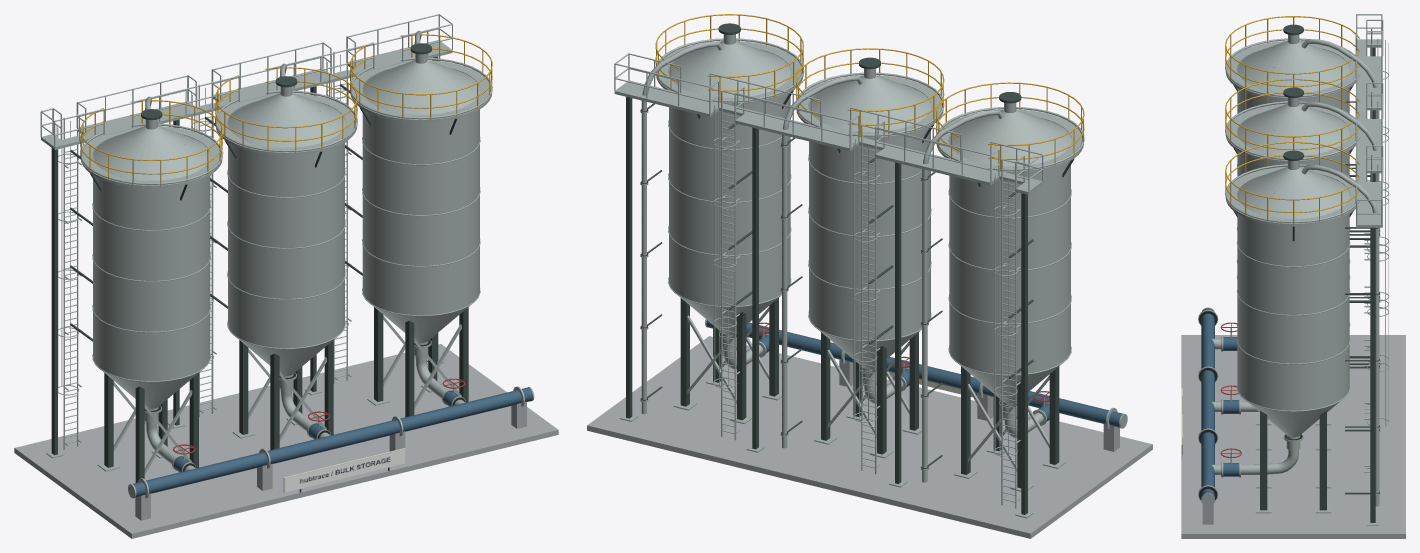
The model's file is silo-farm.glb.
The picture shows the model from 3 angles, left to right: view 1: azimuth 30°, elevation 25°; view 2: azimuth 150°, elevation 25°; view 3: azimuth 270°, elevation 25°; orthographic projection. The views are drawn at different scales.
Parts seen in each view (by area): view 1: storage_vessels_brushed-metal-panels, silo-farm_cast-concrete, storage_vessels_galvanized-steel, storage_vessels_powder-coated-frame, silo-farm_galvanized-steel, silo-farm_utility-blue, storage_vessels_safety-yellow, silo-farm_powder-coated-frame, silo-farm_silo-site-sign-ink; view 2: storage_vessels_brushed-metal-panels, silo-farm_cast-concrete, storage_vessels_galvanized-steel, storage_vessels_powder-coated-frame, silo-farm_galvanized-steel, silo-farm_powder-coated-frame, storage_vessels_safety-yellow, silo-farm_utility-blue; view 3: storage_vessels_brushed-metal-panels, silo-farm_cast-concrete, storage_vessels_galvanized-steel, silo-farm_galvanized-steel, storage_vessels_safety-yellow, storage_vessels_powder-coated-frame, silo-farm_utility-blue, silo-farm_powder-coated-frame, storage_vessels_utility-blue, silo-farm_rubber-gaskets.
Part boxes in pixels (left/top/right/bottom): storage_vessels_brushed-metal-panels: left=93, top=60, right=479, bottom=408; silo-farm_cast-concrete: left=14, top=344, right=558, bottom=538; storage_vessels_galvanized-steel: left=56, top=30, right=492, bottom=474; storage_vessels_powder-coated-frame: left=70, top=43, right=468, bottom=482; silo-farm_galvanized-steel: left=40, top=14, right=534, bottom=498; silo-farm_utility-blue: left=132, top=387, right=532, bottom=497; storage_vessels_safety-yellow: left=80, top=34, right=492, bottom=185; silo-farm_powder-coated-frame: left=51, top=56, right=438, bottom=492; silo-farm_silo-site-sign-ink: left=285, top=449, right=404, bottom=491; storage_vessels_brushed-metal-panels: left=669, top=41, right=1070, bottom=403; silo-farm_cast-concrete: left=587, top=336, right=1152, bottom=538; storage_vessels_galvanized-steel: left=640, top=34, right=1084, bottom=508; storage_vessels_powder-coated-frame: left=647, top=23, right=1074, bottom=488; silo-farm_galvanized-steel: left=614, top=53, right=1127, bottom=518; silo-farm_powder-coated-frame: left=626, top=97, right=1027, bottom=514; storage_vessels_safety-yellow: left=655, top=14, right=1084, bottom=171; silo-farm_utility-blue: left=706, top=320, right=1123, bottom=427; storage_vessels_brushed-metal-panels: left=1237, top=41, right=1349, bottom=437; silo-farm_cast-concrete: left=1181, top=335, right=1405, bottom=538; storage_vessels_galvanized-steel: left=1212, top=28, right=1389, bottom=513; silo-farm_galvanized-steel: left=1198, top=14, right=1383, bottom=525; storage_vessels_safety-yellow: left=1225, top=16, right=1360, bottom=224; storage_vessels_powder-coated-frame: left=1233, top=24, right=1370, bottom=510; silo-farm_utility-blue: left=1201, top=308, right=1214, bottom=497; silo-farm_powder-coated-frame: left=1182, top=47, right=1375, bottom=522; storage_vessels_utility-blue: left=1223, top=337, right=1239, bottom=476; silo-farm_rubber-gaskets: left=1199, top=311, right=1217, bottom=499.
Bounding box in the file's own units: 19.3 × 15.7 × 9.21.
2 materials, 2 textured.
